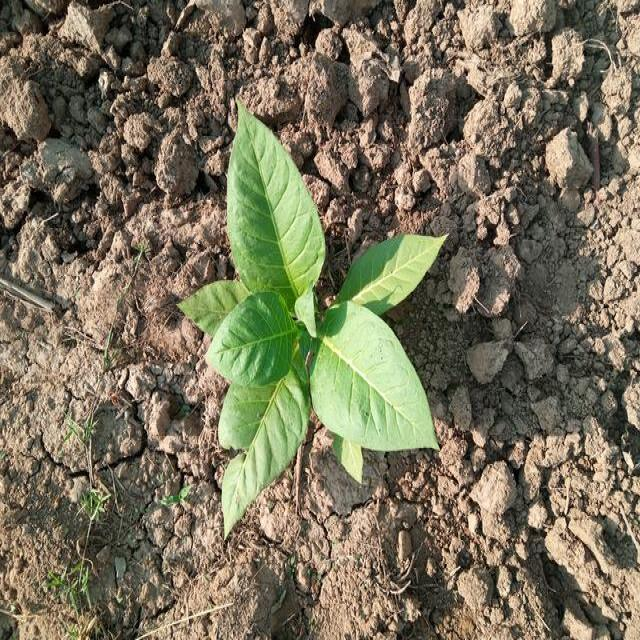crop: (191, 105, 454, 535)
